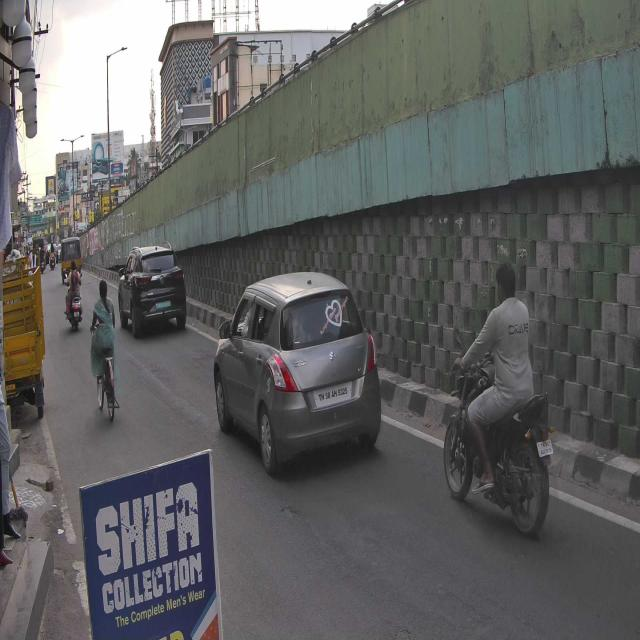single_rider: (442, 259, 554, 538)
